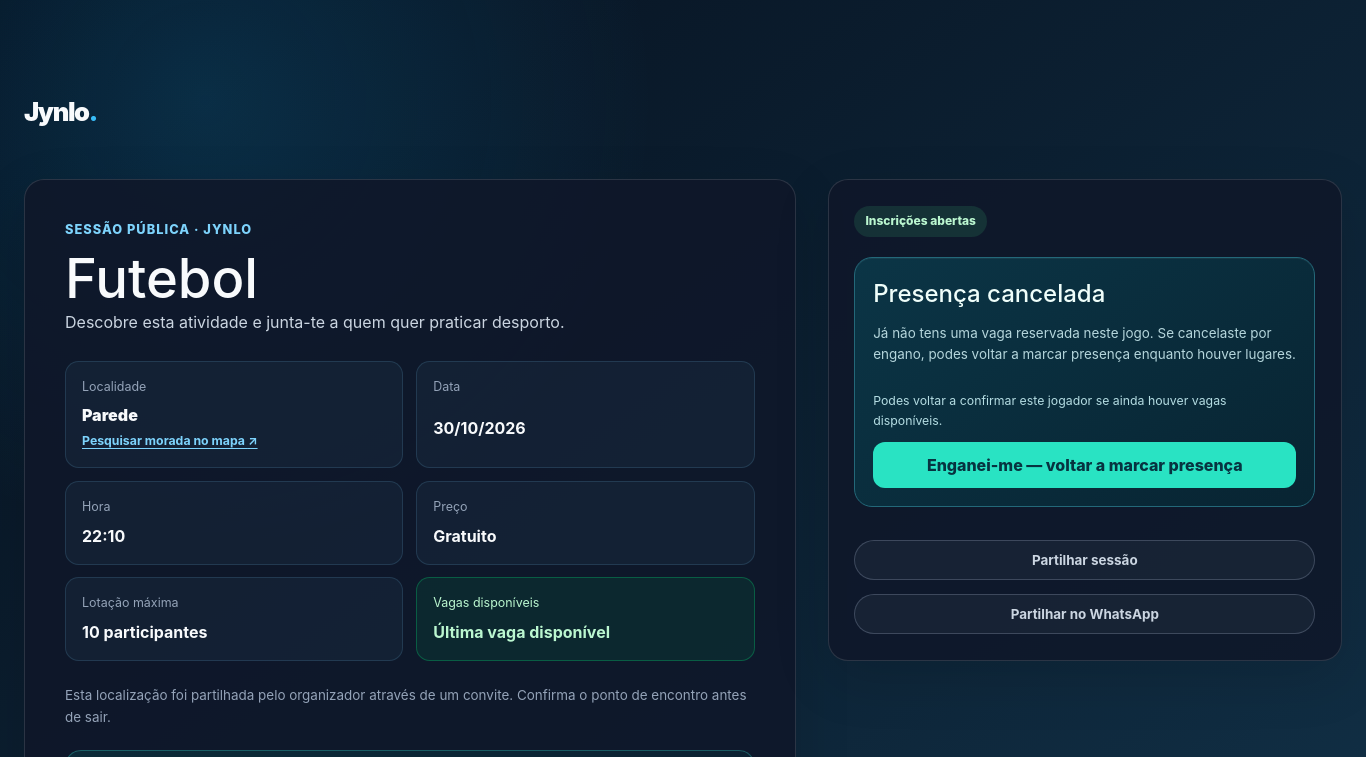
Test: PublicSessionPreviewComponent › lets a cancelled historical guest confirm again in one click without duplicating a place
The width and height of the screenshot is (1366, 757).
Click the button with class "guest-rejoin-button" at (1085, 465), box [873,442,1296,488]
(page scrolled)
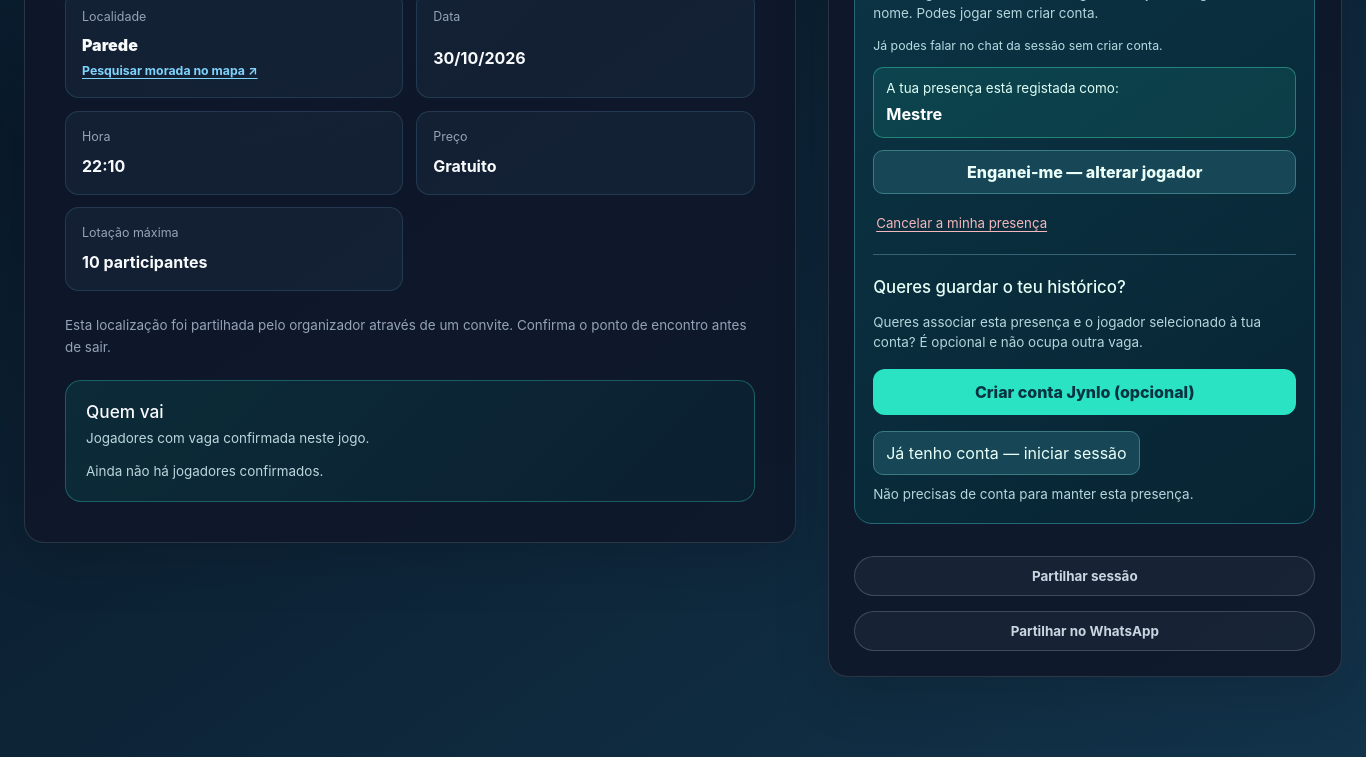
Expected: the text "Mestre" is shown, [886,104,942,124]
Expected: the button with class "guest-rejoin-button" is gone
Expected: the element with class "guest-rsvp-upgrade" is shown, [873,254,1296,505]
